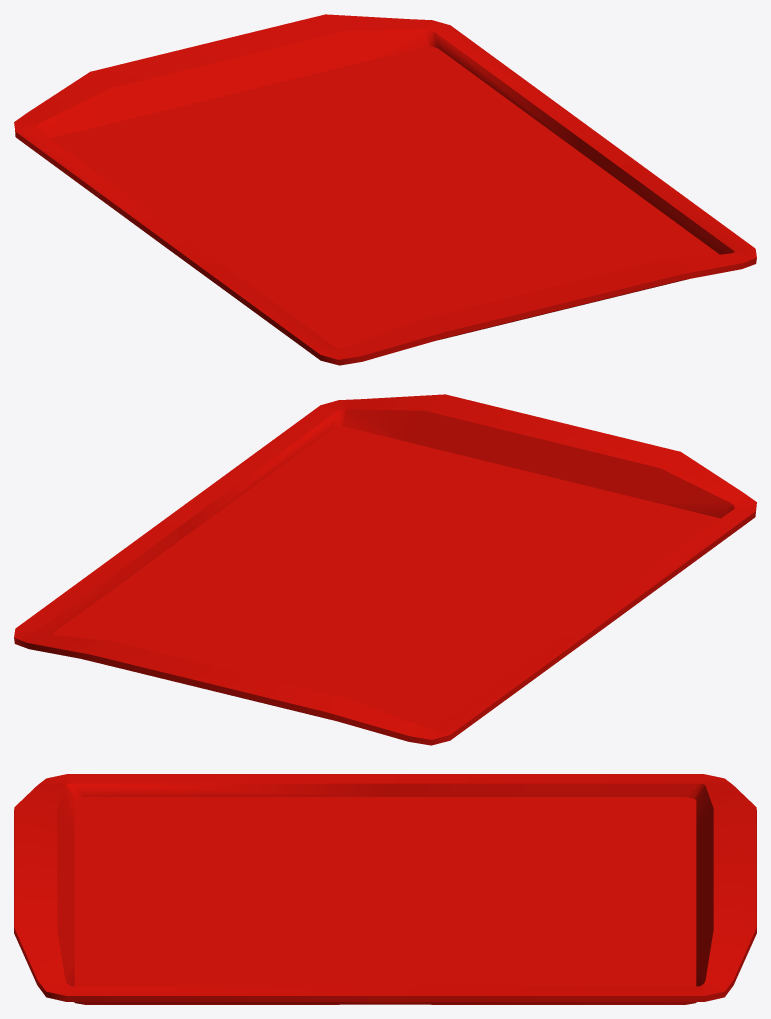
The model's file is tray.FBX.
3 views of the same model, one above another, from view 1: azimuth 30°, elevation 25°; view 2: azimuth 150°, elevation 25°; view 3: azimuth 270°, elevation 25° (orthographic). The views are drawn at different scales.
Parts seen in each view (by area): view 1: tray; view 2: tray; view 3: tray.
Part boxes in pixels (<box>): tray: <box>14,14,756,365</box>; tray: <box>14,394,756,745</box>; tray: <box>14,774,756,1004</box>.
Bounding box in the file's own units: 16.46 × 1.2 × 23.3.
